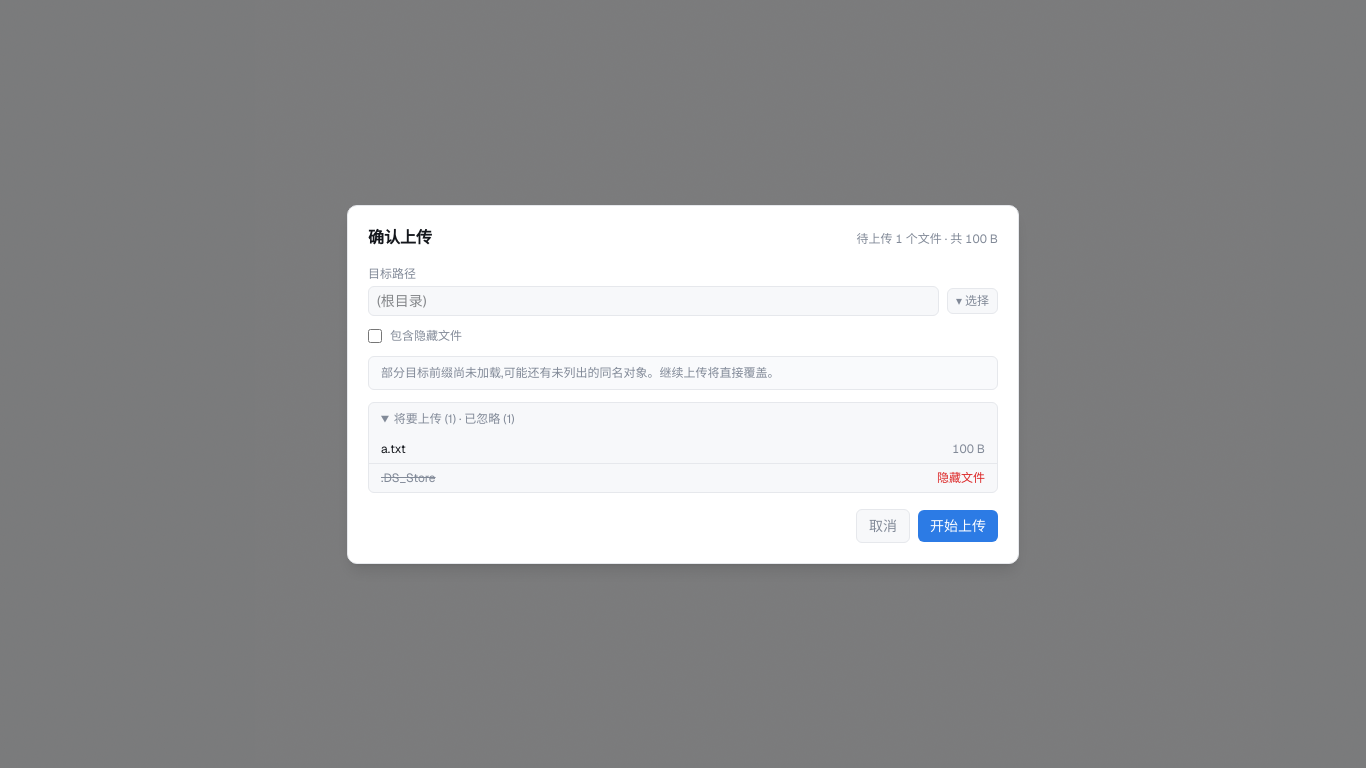
Test case: ConfirmUploadCard › toggling '包含隐藏文件' moves hidden files between accepted and skipped
expect the text "待上传 1 个文件 · 共 100 B" is shown: met, box x1=857 y1=230 x2=998 y2=246
Note: Toggle include-hidden.
Step 1. Click the checkbox labelled "包含隐藏文件" → (375, 336), box x1=368 y1=328 x2=382 y2=342
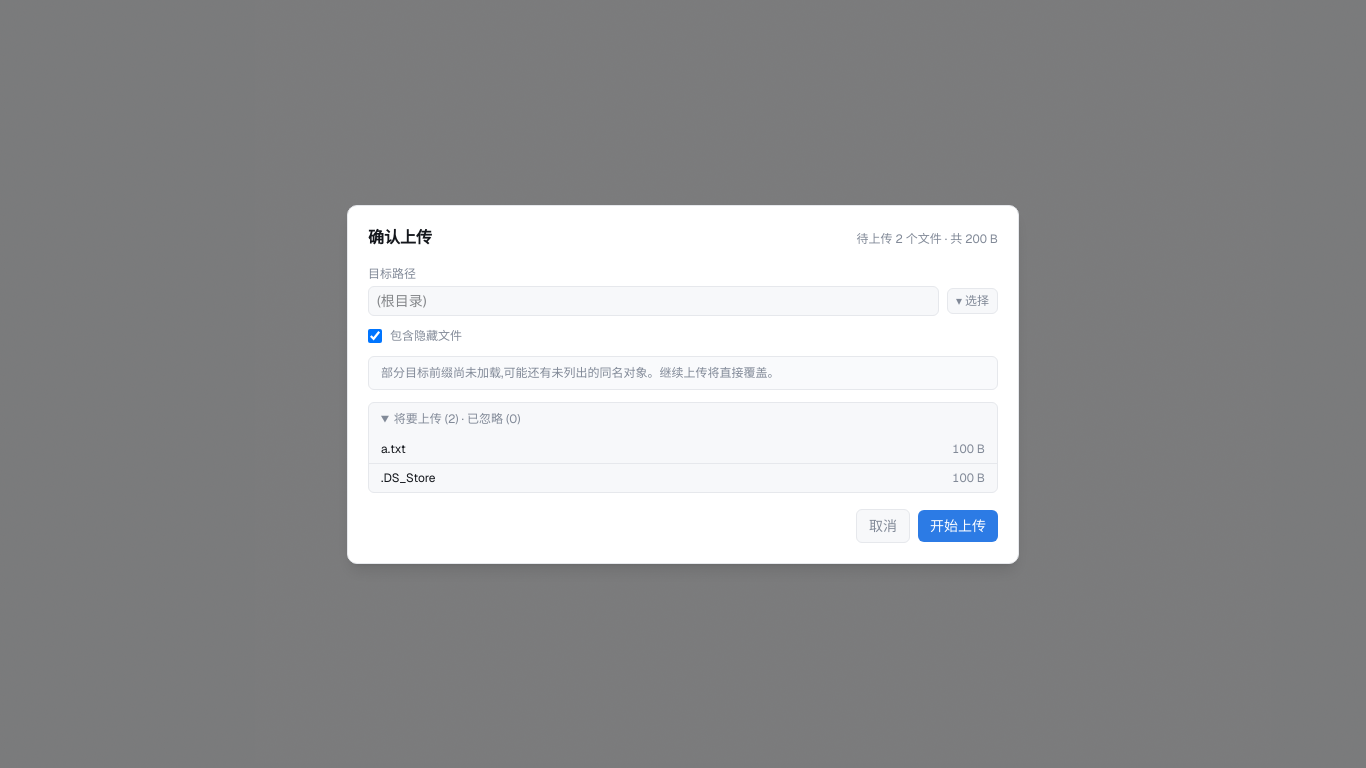
expect the text "待上传 2 个文件 · 共 200 B" is shown: met, box x1=857 y1=230 x2=998 y2=246
